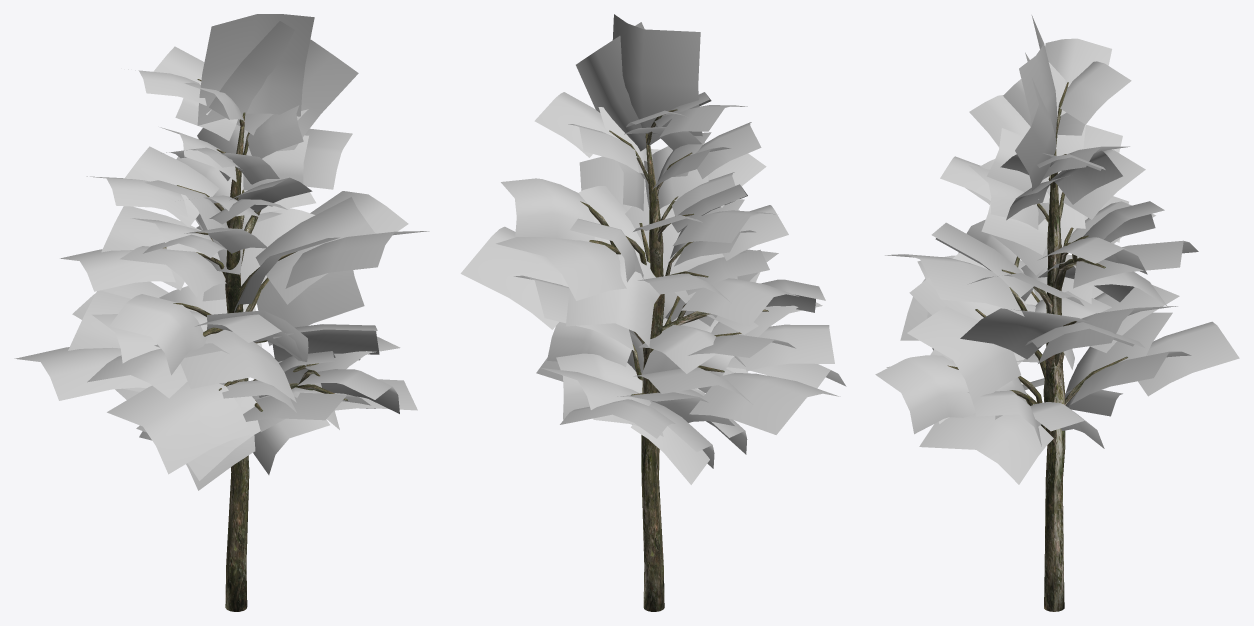
Rendered from VillageTree.dae.
The picture shows the model from 3 angles, left to right: view 1: azimuth 30°, elevation 25°; view 2: azimuth 150°, elevation 25°; view 3: azimuth 270°, elevation 25°; orthographic projection. The views are drawn at different scales.
Parts seen in each view (by area): view 1: meshU3D; view 2: meshU3D; view 3: meshU3D.
Boxes of the visible parts, x1,y1,x2,y2 form: meshU3D: [14, 14, 429, 611]; meshU3D: [460, 14, 846, 611]; meshU3D: [875, 15, 1239, 611].
Bounding box in the file's own units: 239 × 392 × 225.
